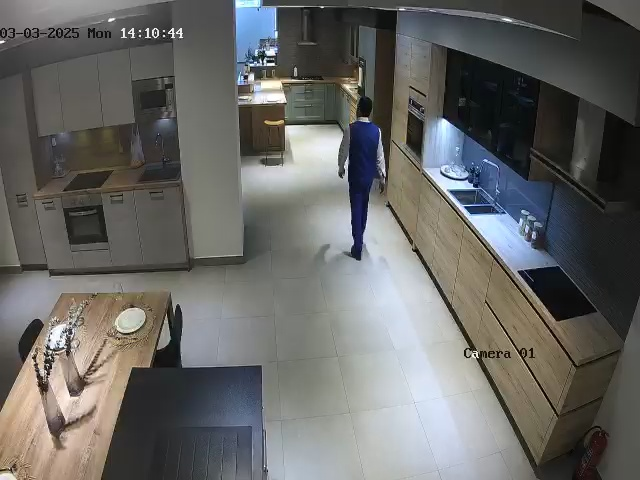employee: (337, 95, 387, 261)
